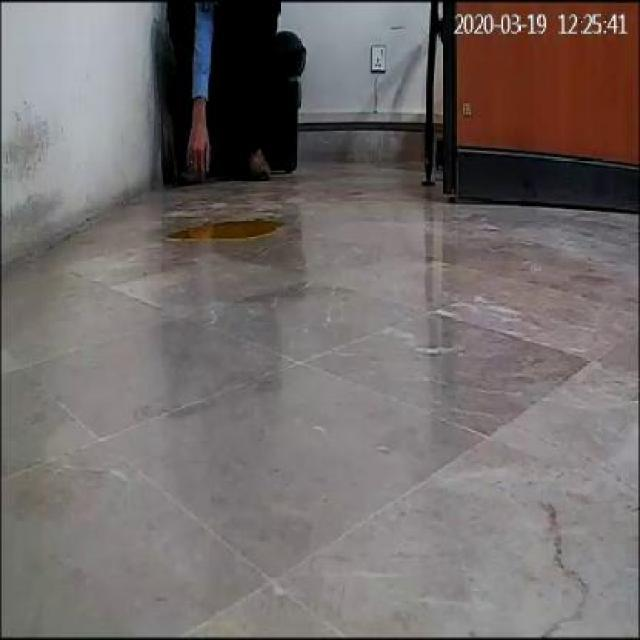spill: (158, 218, 282, 246)
